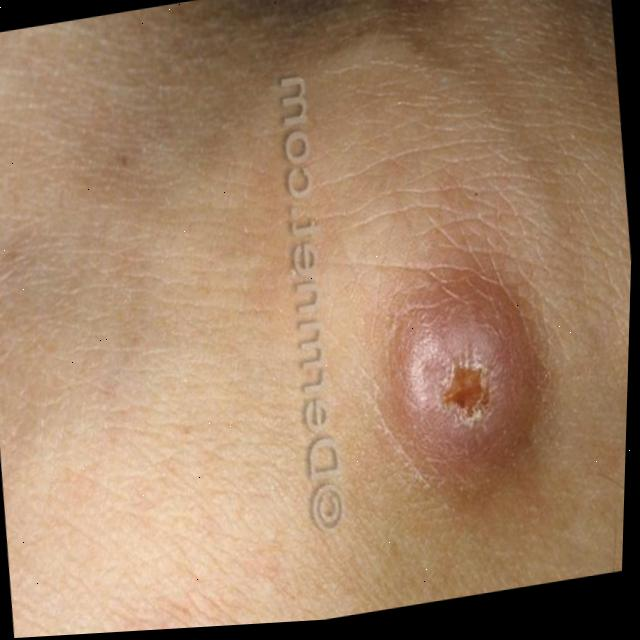Eczema: (406, 293, 523, 438)
